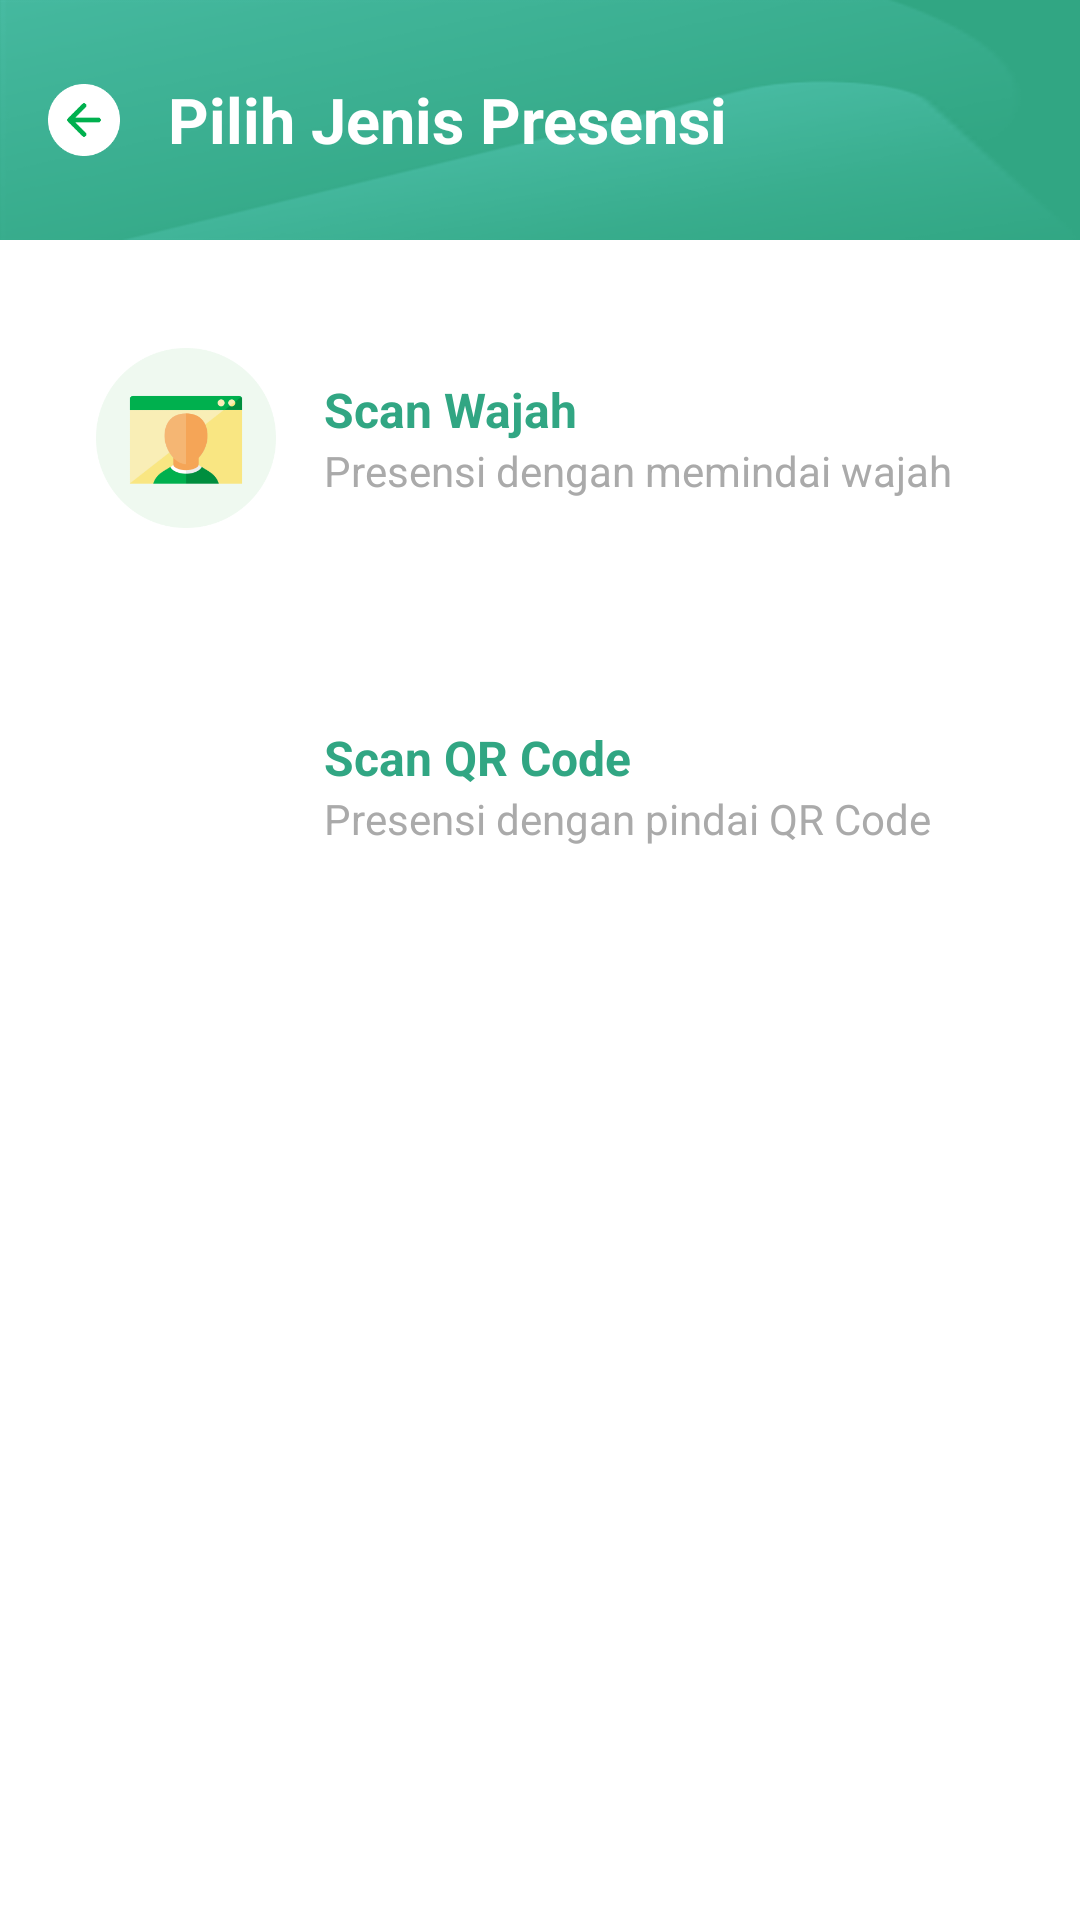

Screen size 1080×1920. Icon name, then its center in pixels as (x,y):
absen scan: (186,439)
back: (84,120)
